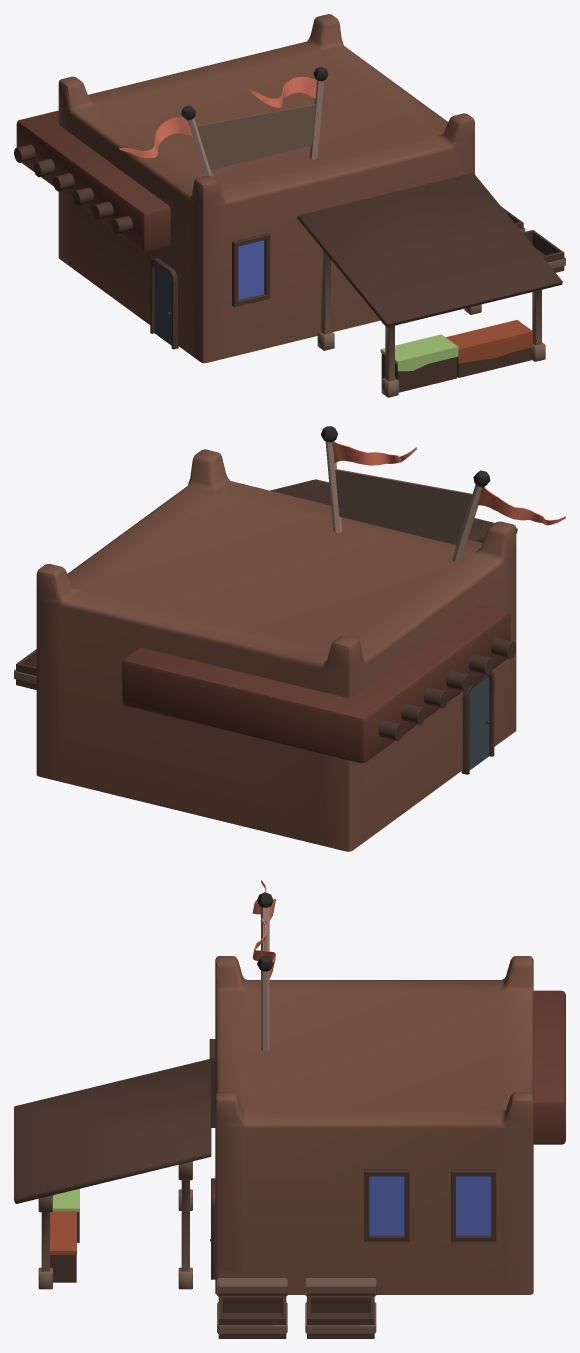
Rendered from Building_Shop.fbx.
3 renders of one model, top to bottom at view 1: azimuth 30°, elevation 25°; view 2: azimuth 150°, elevation 25°; view 3: azimuth 270°, elevation 25°, orthographic. The views are drawn at different scales.
Visible parts, largest first — view 1: base; view 2: base; view 3: base.
Boxes of the visible parts, x1,y1,x2,y2 form: base: [14, 14, 565, 397]; base: [14, 426, 565, 851]; base: [14, 880, 565, 1338].
Bounding box in the file's own units: 1183 × 658 × 1213.
